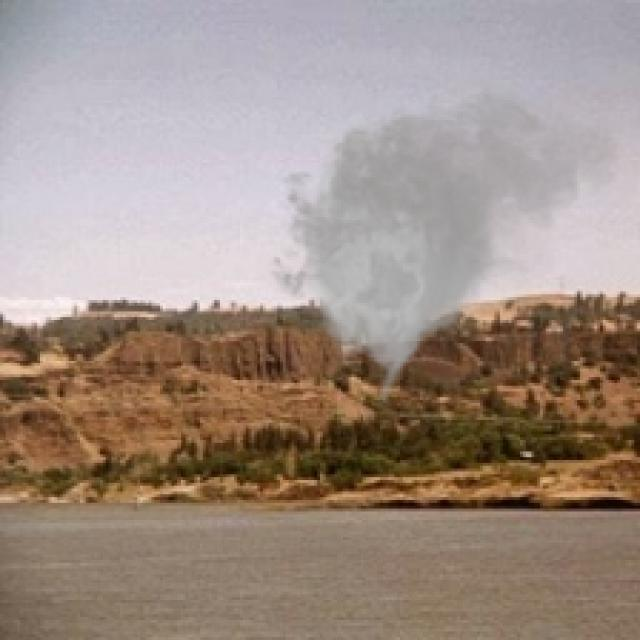Smoke: (257, 72, 629, 417)
